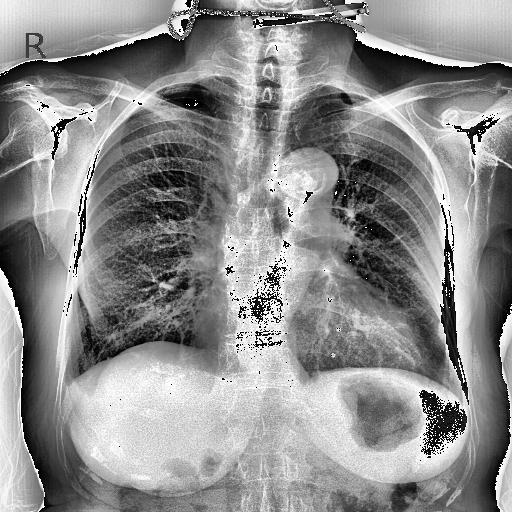0- Aortic enlargement: (272, 146, 338, 216), (280, 148, 340, 214), (278, 146, 338, 202)
11- Pleural thickening: (59, 374, 77, 402)
3- Cardiomegaly: (195, 293, 430, 377), (193, 296, 426, 372), (197, 306, 424, 372)
